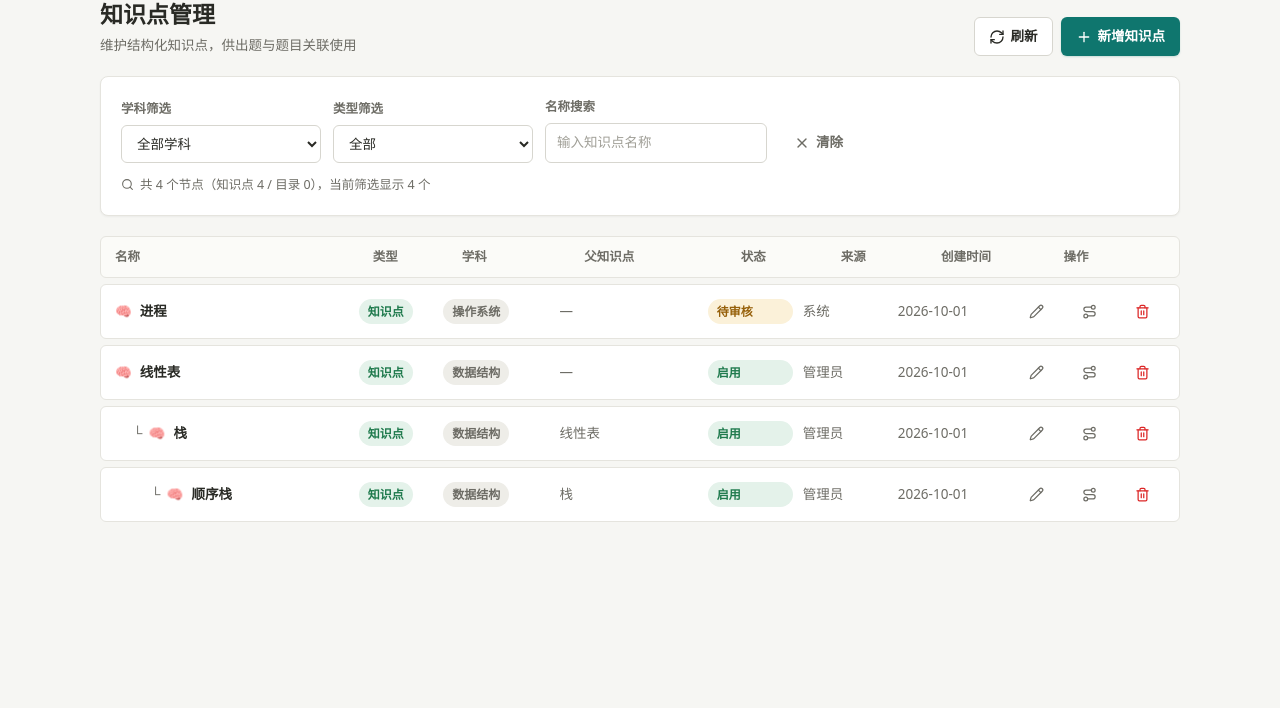
Test: AdminKnowledgePointsView › 预估时长填非整数时不提交并给出中文提示
Click the button "新增知识点" at (1120, 37), box [1060,17,1180,56]
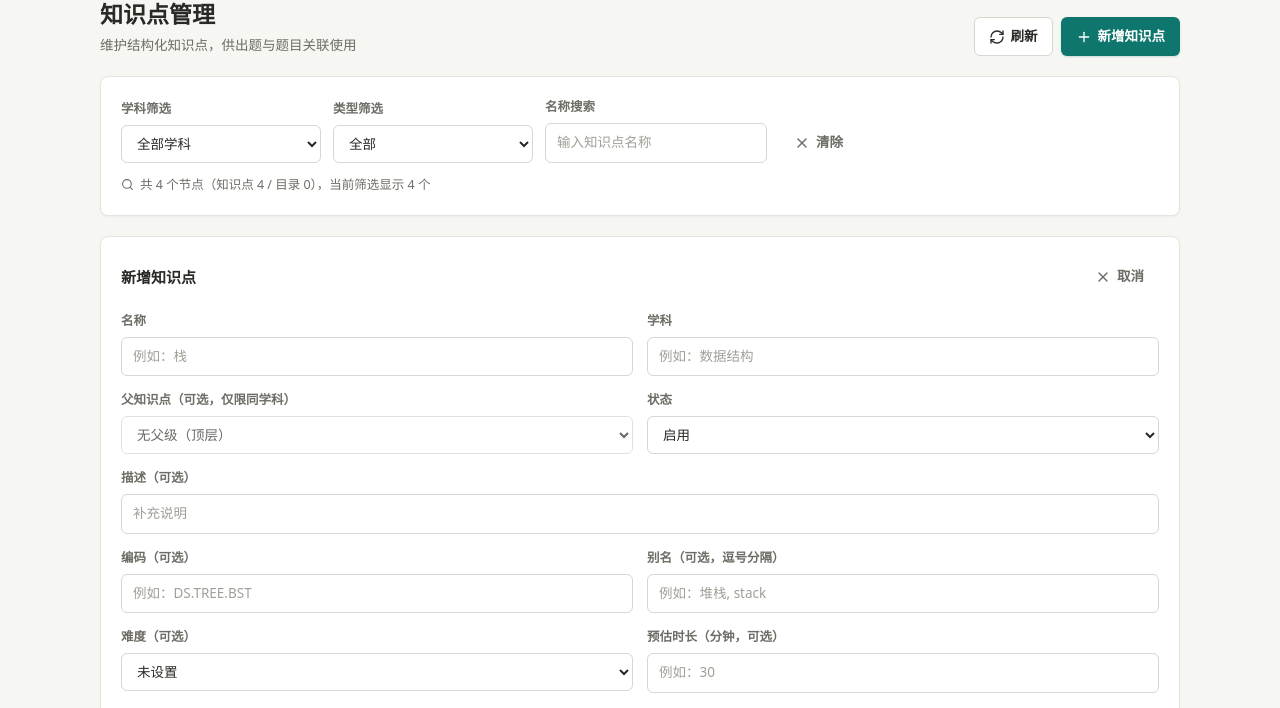
Type "栈" into the field with placeholder "例如：栈" at (377, 356), box [121,336,633,376]
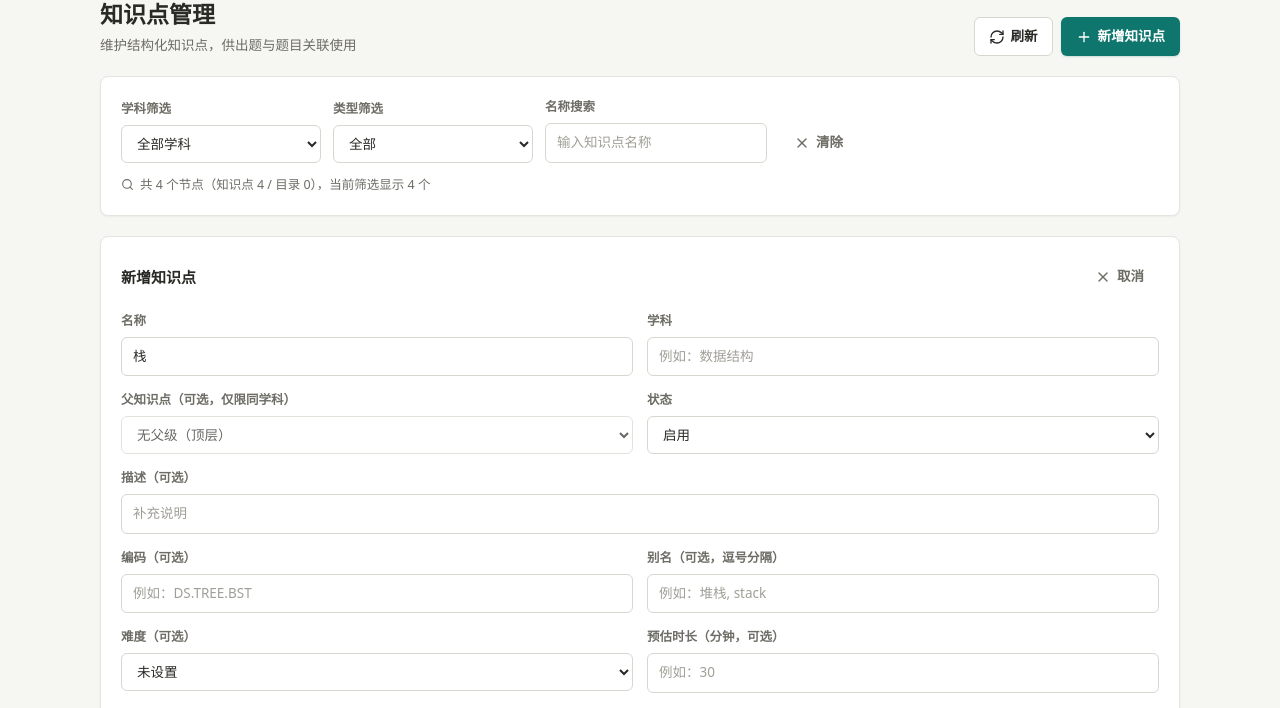
Type "数据结构" into the field with placeholder "例如：数据结构" at (903, 356), box [647,336,1159,376]
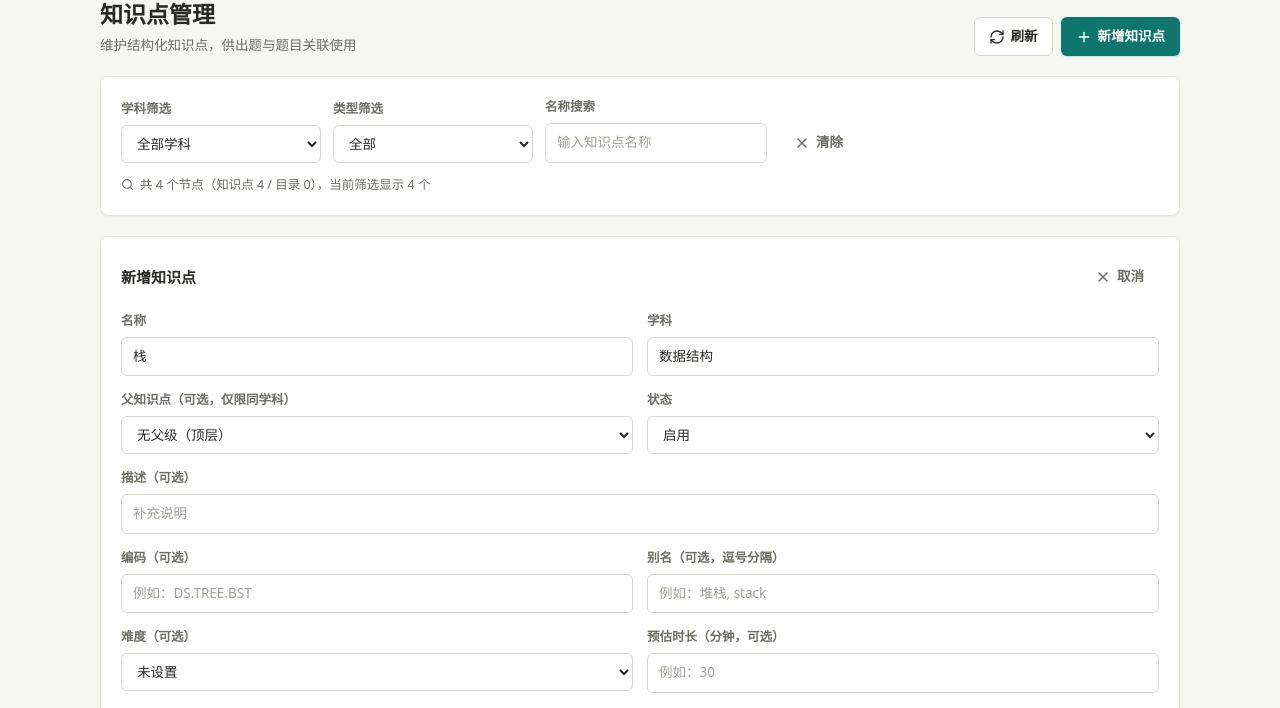
Type "12.5" into the field with placeholder "例如：30" at (903, 673), box [647,653,1159,693]
(page scrolled)
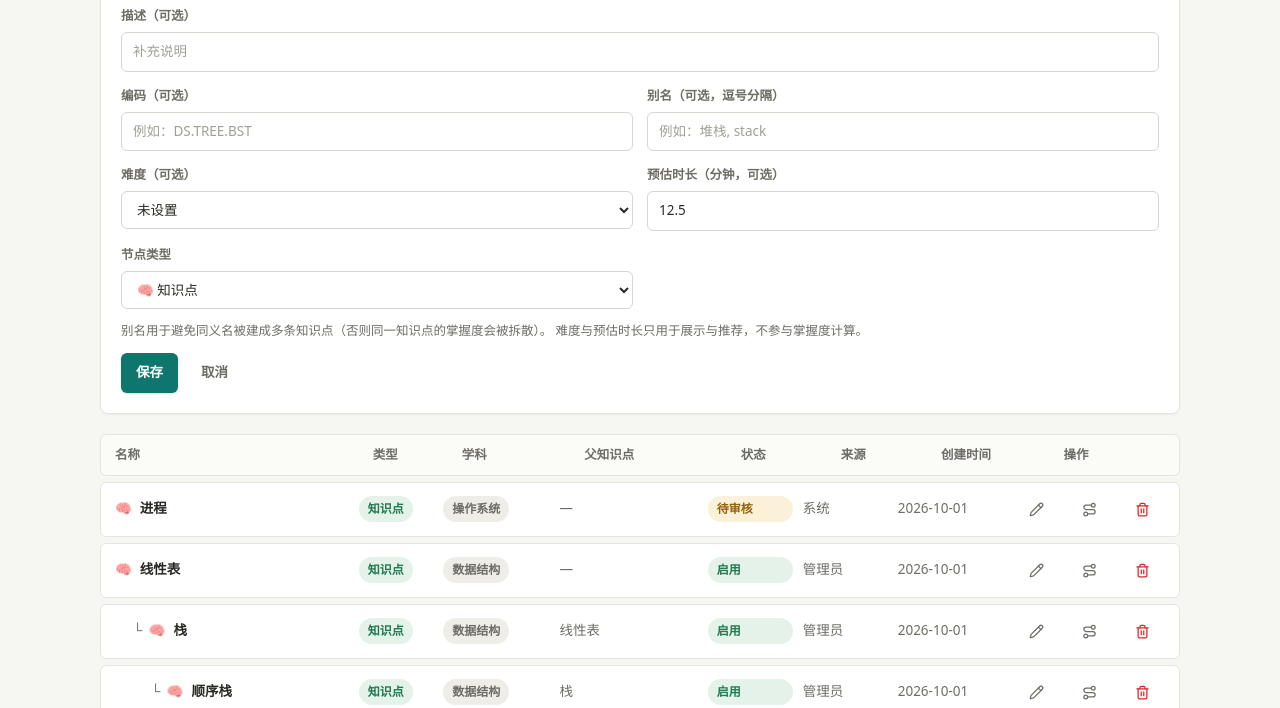
Click the button "保存" at (150, 373), box [121,353,178,392]
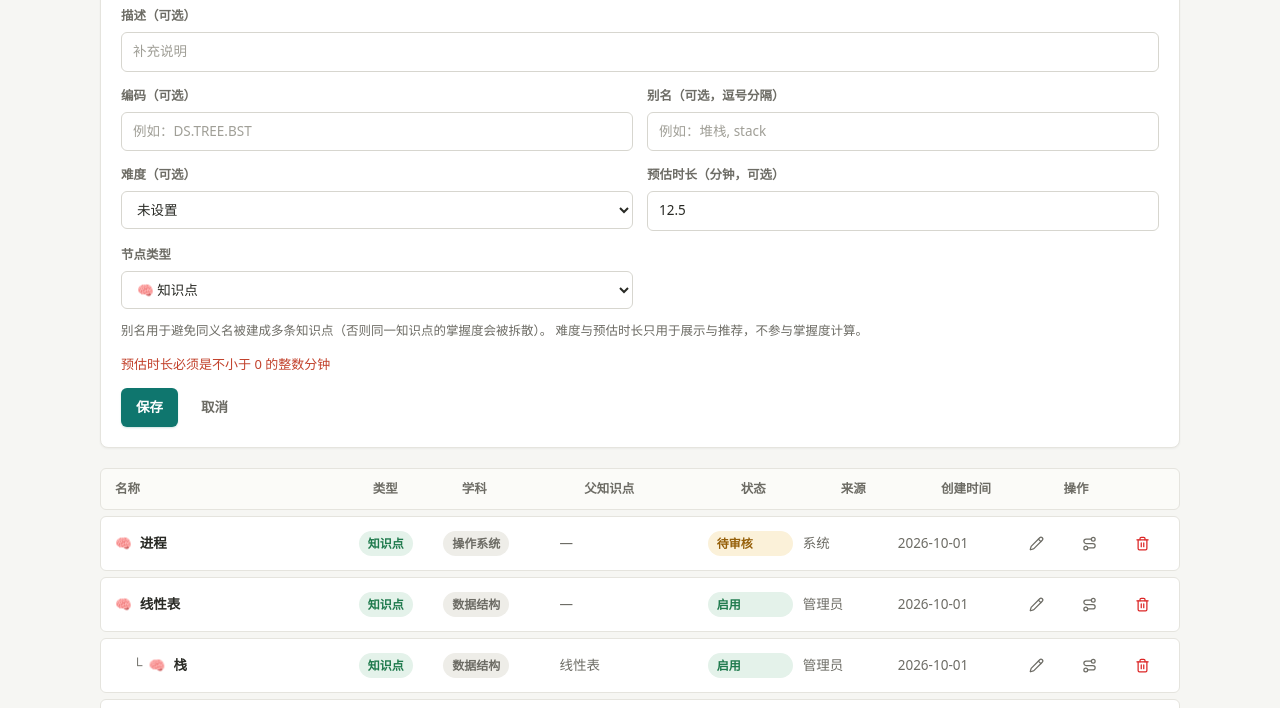
Check: the text "预估时长必须是不小于 0 的整数分钟" is shown, box [121,355,330,373]
